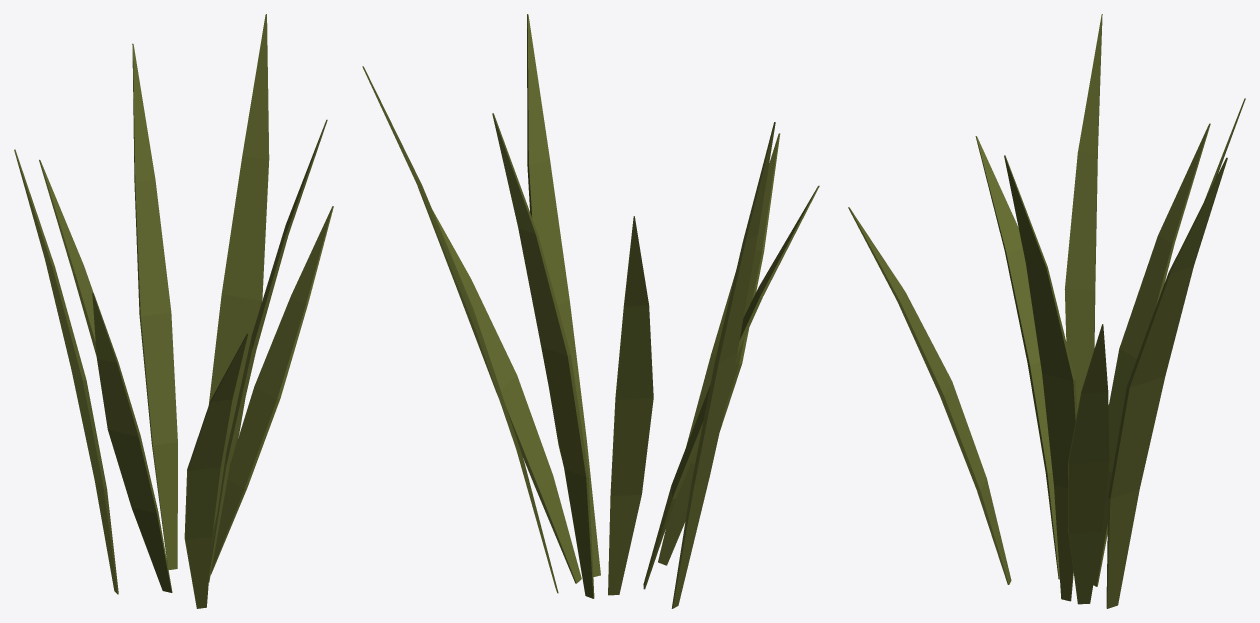
Rendered from plant_005a_tall_grass.glb.
The picture shows the model from 3 angles, left to right: view 1: azimuth 30°, elevation 25°; view 2: azimuth 150°, elevation 25°; view 3: azimuth 270°, elevation 25°; orthographic projection. The views are drawn at different scales.
Visible parts, largest first — view 1: plant_005a_tall_grass__blades; view 2: plant_005a_tall_grass__blades; view 3: plant_005a_tall_grass__blades.
Part boxes in pixels (box(x1,y1,x2,y2)): plant_005a_tall_grass__blades: box(14, 14, 333, 608); plant_005a_tall_grass__blades: box(362, 14, 819, 608); plant_005a_tall_grass__blades: box(848, 14, 1245, 608).
Size of the model in its own units: 0.699 by 0.9995 by 0.7045.
